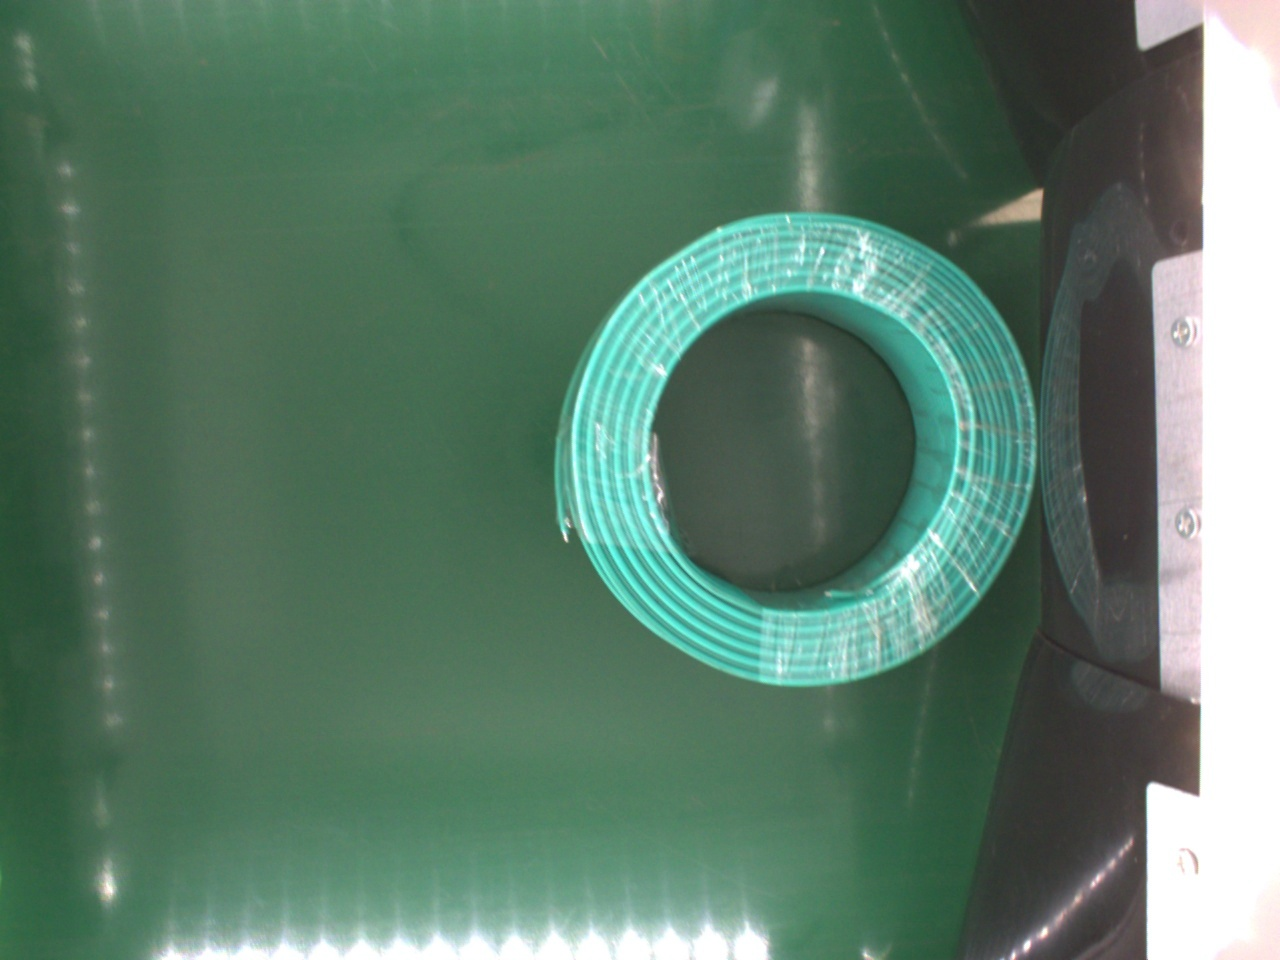green: (550, 215, 1031, 689)
